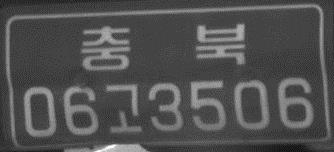0: (231, 78, 271, 133), (22, 82, 57, 139)
3: (147, 80, 182, 133)
5: (187, 77, 227, 135)
6: (277, 76, 317, 132), (61, 82, 98, 137)
고: (104, 81, 143, 136)
충북_D: (78, 19, 247, 73)
